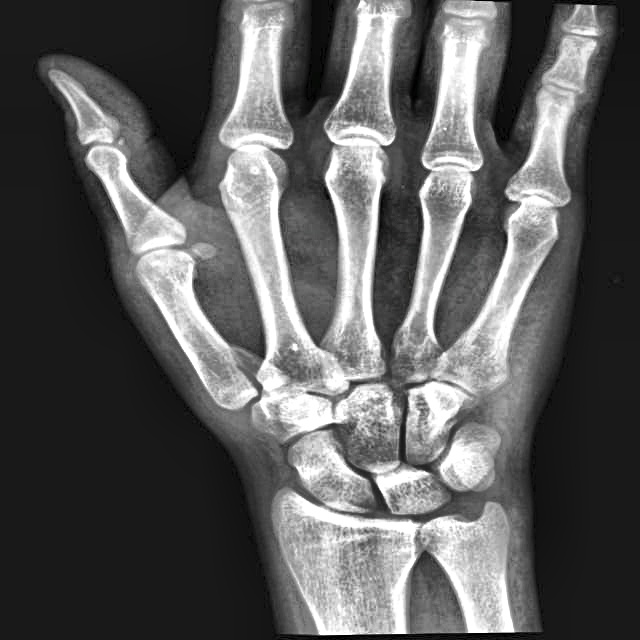Oblique: (196, 341, 290, 412)
